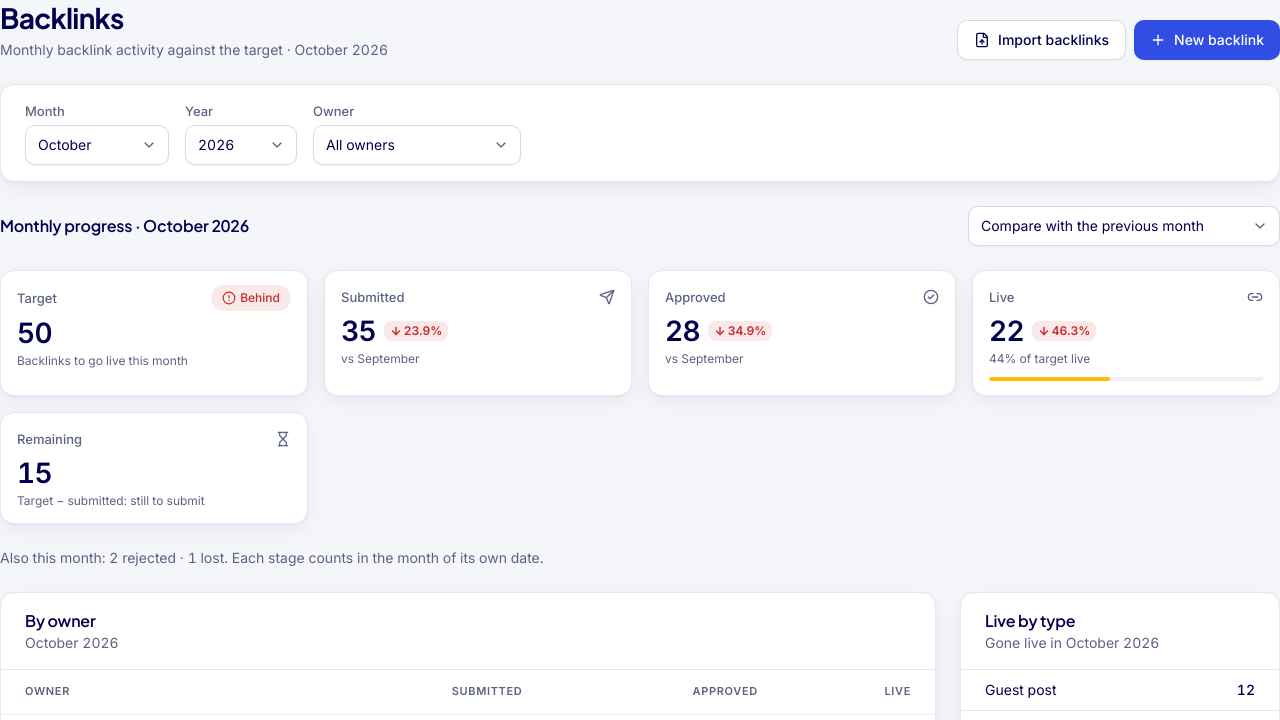
Scenario: BacklinksPage › offers the CSV import to editors
Click the button "Import backlinks" at (1042, 40), box [957, 20, 1126, 60]
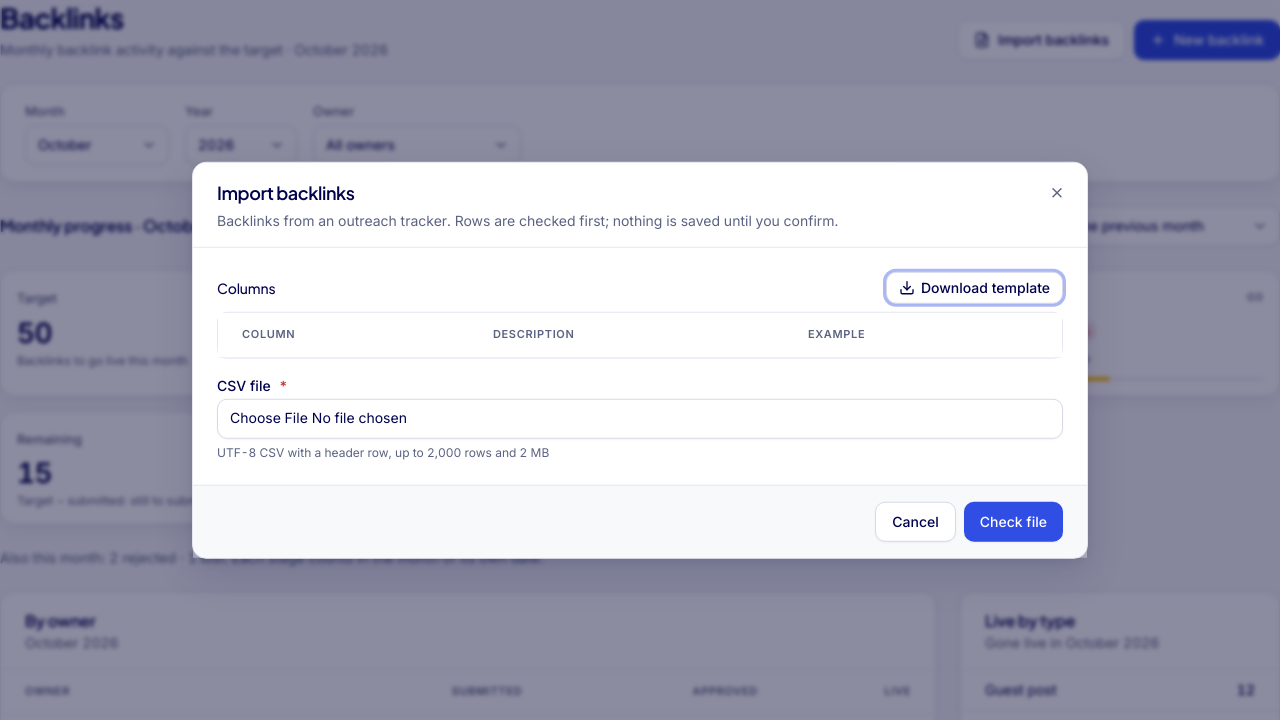
Expected: the dialog "Import backlinks" is shown, [192, 162, 1088, 558]
